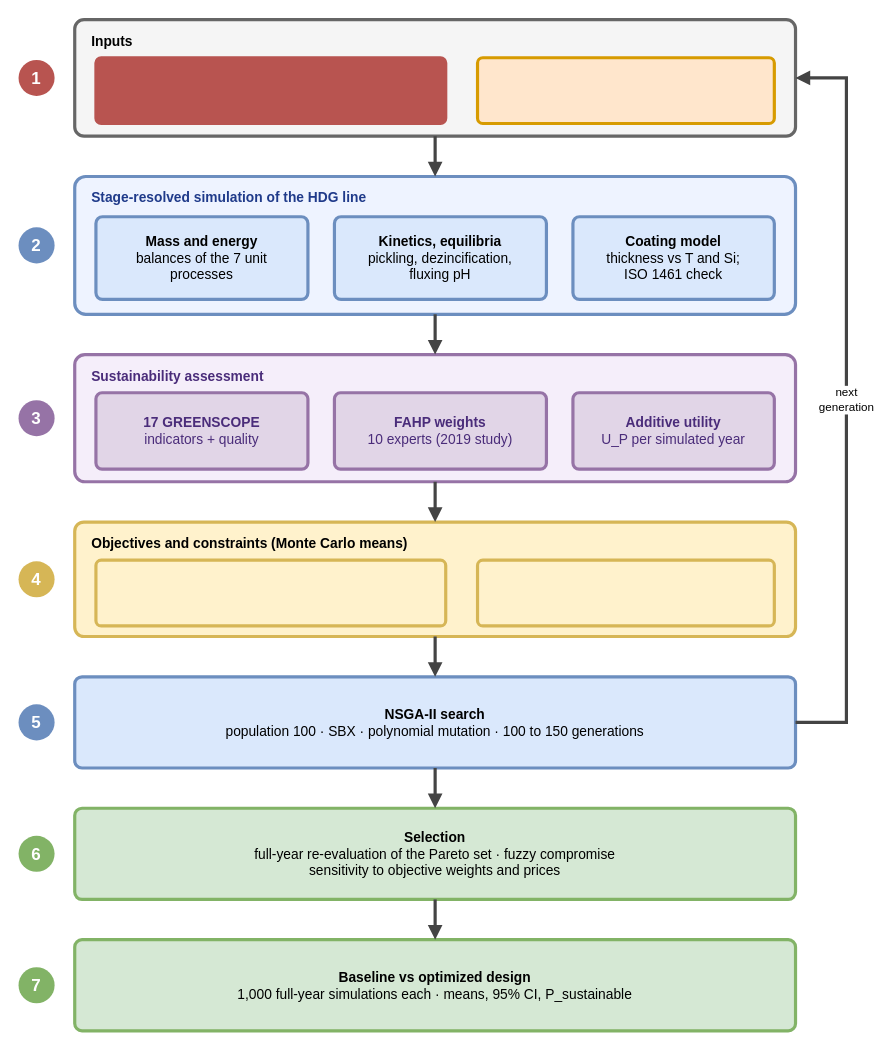
This 891x1050 diagram has some shape labels left out. The shapes that lost their labels are listed below. From the top down, each one's centre as x and y in pixels, then its label:
point (270, 90): Decision vector x 7 operating variables with box bounds
point (625, 90): Uncertain inputs steel lots, composition, contamination, ambient T
point (270, 592): Minimize -E[U_P], E[COM], E[V_l-poll], E[V_WT]
point (625, 592): Subject to P(thickness < ISO 1461) <= 0.02 E[peak Fe2+, pickling] <= 150 g/L
